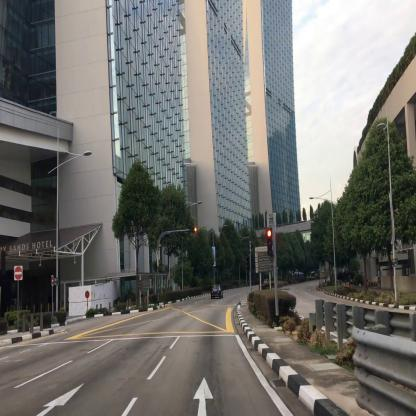red_traffic_light: (267, 230, 273, 256), (189, 228, 196, 231)
